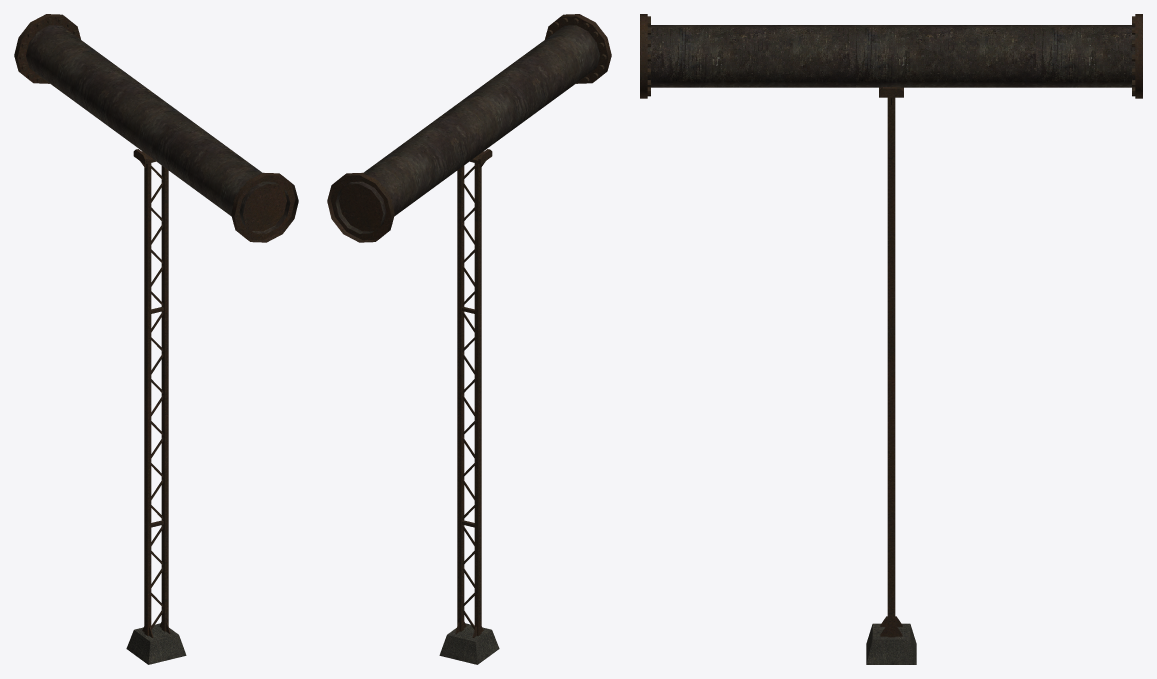
File: pipe_dx_1.glb
3 views of the same model, side by side, from view 1: azimuth 30°, elevation 25°; view 2: azimuth 150°, elevation 25°; view 3: azimuth 270°, elevation 25° (orthographic). The views are drawn at different scales.
Parts seen in each view (by area): view 1: pipe_dx_1; view 2: pipe_dx_1; view 3: pipe_dx_1.
Part boxes in pixels (left/top/right/bottom): pipe_dx_1: left=14, top=14, right=298, bottom=664; pipe_dx_1: left=327, top=14, right=611, bottom=664; pipe_dx_1: left=640, top=14, right=1142, bottom=664.
Size of the model in its own units: 0.676 by 5.59 by 4.
3 materials, 3 textured.
